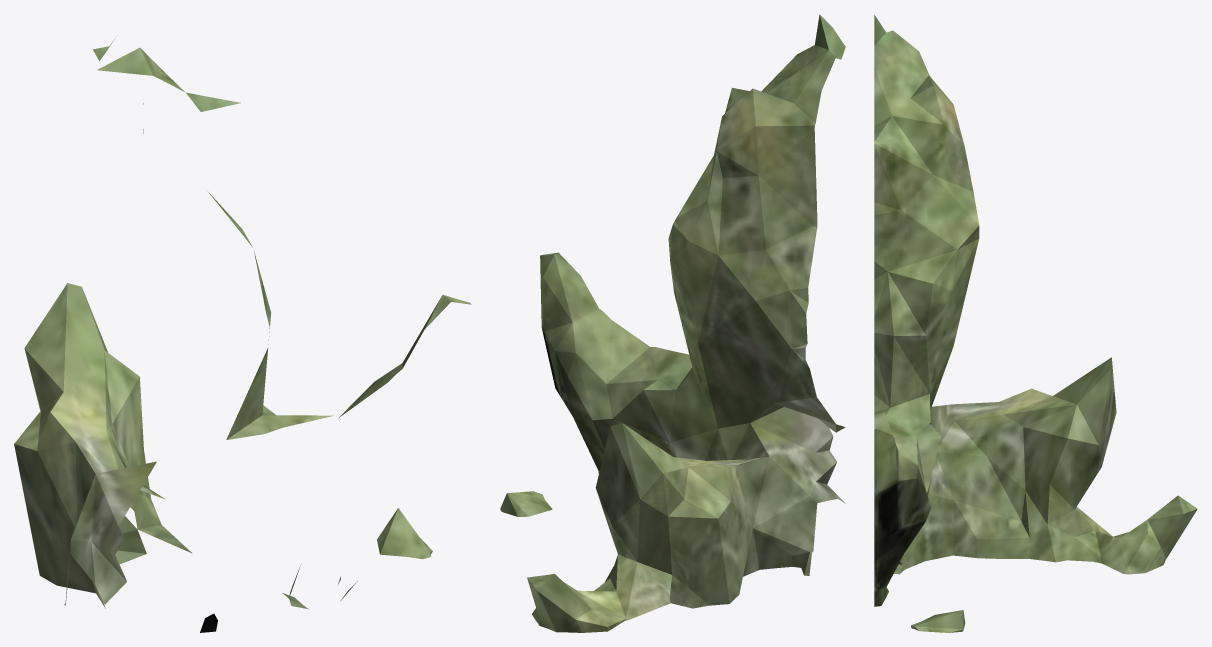
The picture shows the model from 3 angles, left to right: view 1: azimuth 30°, elevation 25°; view 2: azimuth 150°, elevation 25°; view 3: azimuth 270°, elevation 25°; orthographic projection. The views are drawn at different scales.
Bounding box in the file's own units: 2.05 × 3.41 × 2.03.
Materials: 1 (1 with a texture image).
